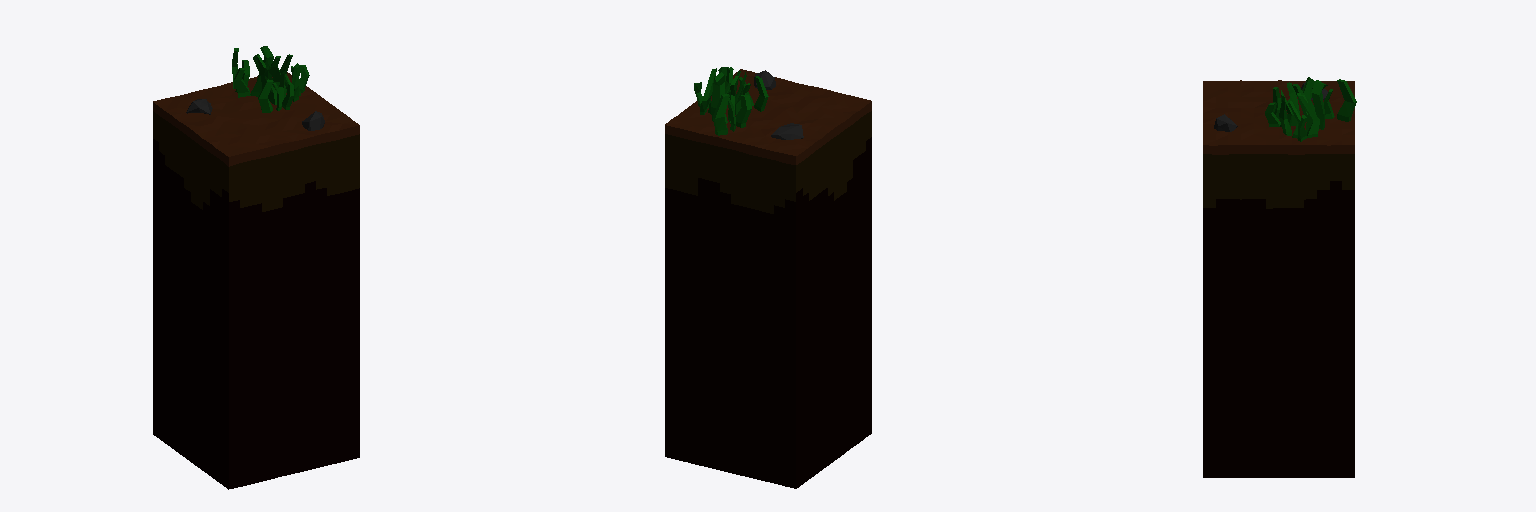
Rendered from tierra4.obj.
3 views of the same model, side by side, from view 1: azimuth 30°, elevation 25°; view 2: azimuth 150°, elevation 25°; view 3: azimuth 270°, elevation 25° (orthographic).
Parts seen in each view (by area): view 1: Cube.073, Cube.088; view 2: Cube.073, Cube.088; view 3: Cube.073, Cube.088.
Boxes of the visible parts, <box> form: Cube.073: <box>153,72,359,489</box>; Cube.088: <box>232,46,309,112</box>; Cube.073: <box>665,69,871,488</box>; Cube.088: <box>694,67,768,135</box>; Cube.073: <box>1203,80,1354,477</box>; Cube.088: <box>1265,77,1356,141</box>.
Size of the model in its own units: 19.41 by 53.48 by 19.66.